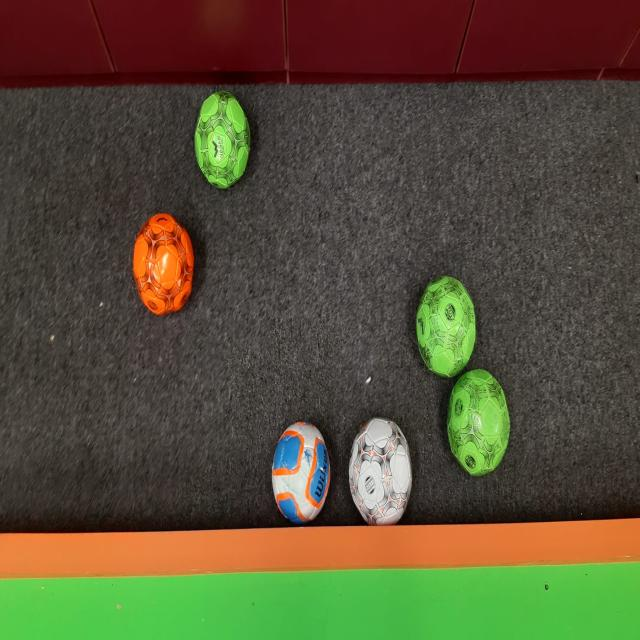ball: (349, 416, 415, 528), (446, 369, 512, 478), (133, 212, 195, 315), (417, 275, 478, 379), (272, 420, 329, 525), (195, 90, 252, 190)
